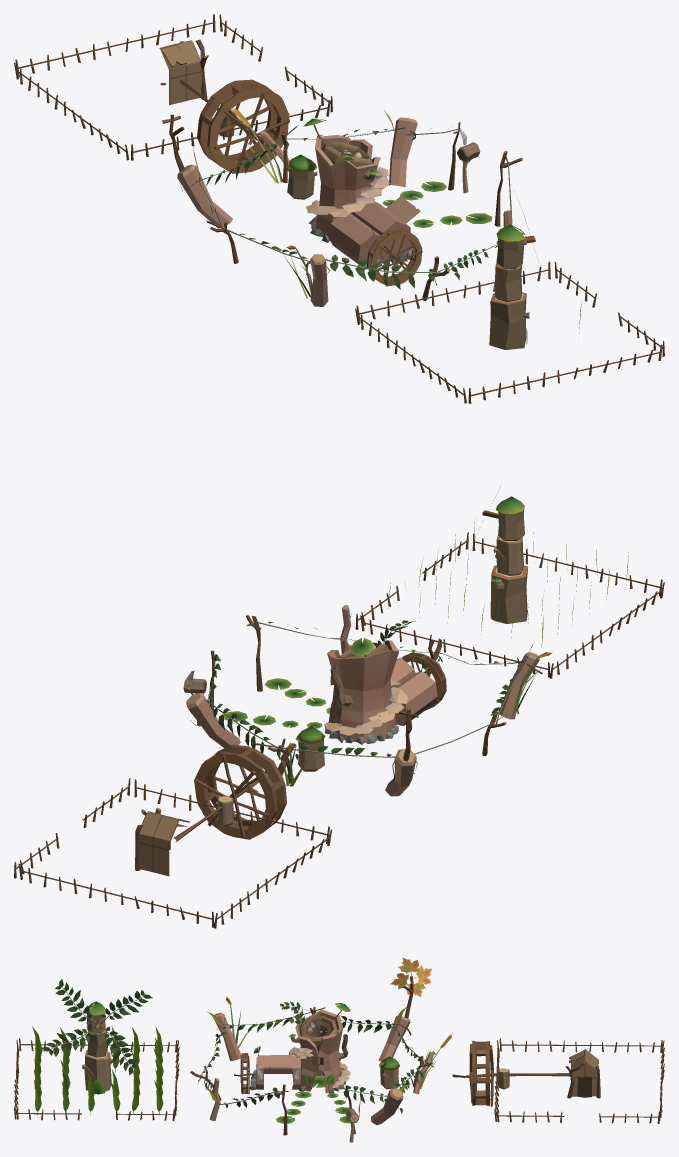
3 views of the same model, one above another, from view 1: azimuth 30°, elevation 25°; view 2: azimuth 150°, elevation 25°; view 3: azimuth 270°, elevation 25° (orthographic). The views are drawn at different scales.
Visible parts, largest first — view 1: nestStage_15, watermill.001, watermillHouse.003; view 2: nestStage_15, watermill.001, watermillHouse.003; view 3: nestStage_15, windmill.003, watermill.001, nestStageWindmill_11.004, watermillHouse.003.
Boxes of the visible parts, x1,y1,x2,y2 form: nestStage_15: [14, 14, 664, 403]; watermill.001: [179, 79, 289, 173]; watermillHouse.003: [367, 228, 422, 286]; nestStage_15: [14, 496, 664, 928]; watermill.001: [173, 744, 286, 842]; watermillHouse.003: [401, 652, 446, 710]; nestStage_15: [14, 976, 664, 1142]; windmill.003: [41, 979, 152, 1075]; watermill.001: [452, 1040, 570, 1106]; nestStageWindmill_11.004: [390, 957, 431, 996]; watermillHouse.003: [234, 1053, 256, 1094].
Size of the model in its own units: 6.39 by 3.8 by 17.09.
